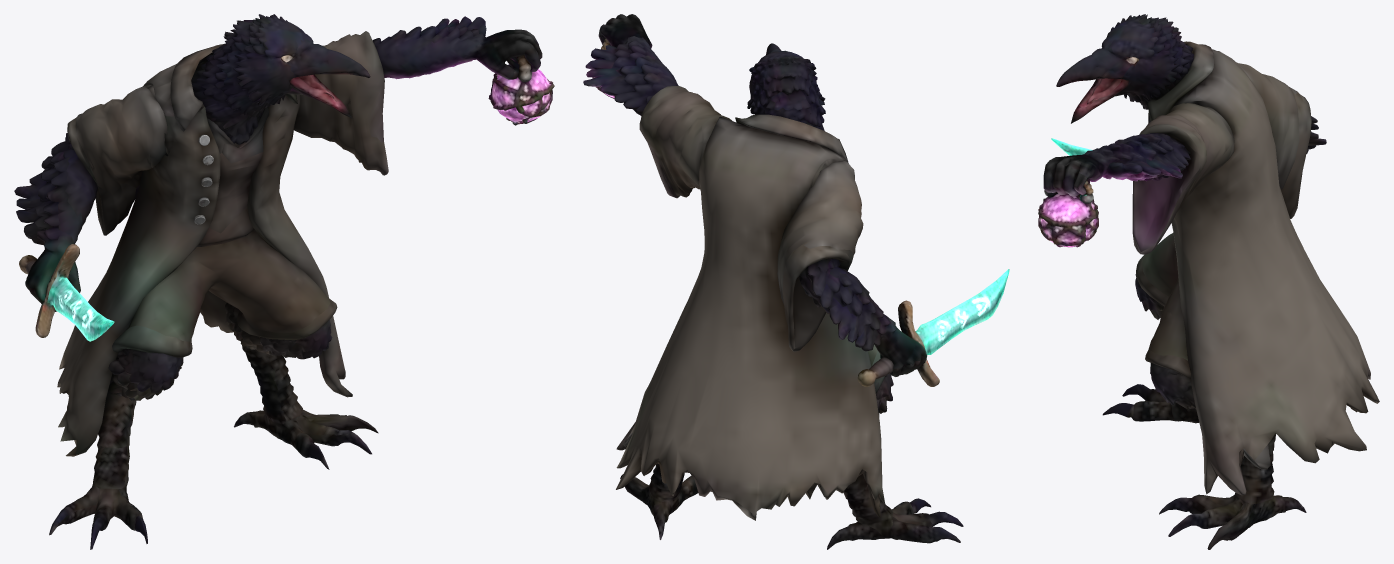
Rendered from MZ4250 - Kenku_lantern 2025.glb.
The picture shows the model from 3 angles, left to right: view 1: azimuth 30°, elevation 25°; view 2: azimuth 150°, elevation 25°; view 3: azimuth 270°, elevation 25°; orthographic projection. The views are drawn at different scales.
Parts seen in each view (by area): view 1: Body.002; view 2: Body.002; view 3: Body.002.
Boxes of the visible parts, <box> form: Body.002: <box>14,14,554,549</box>; Body.002: <box>583,14,1009,549</box>; Body.002: <box>1038,14,1379,549</box>.
Size of the model in its own units: 76.09 by 77.86 by 51.37.
Materials: 4 (4 with a texture image).
